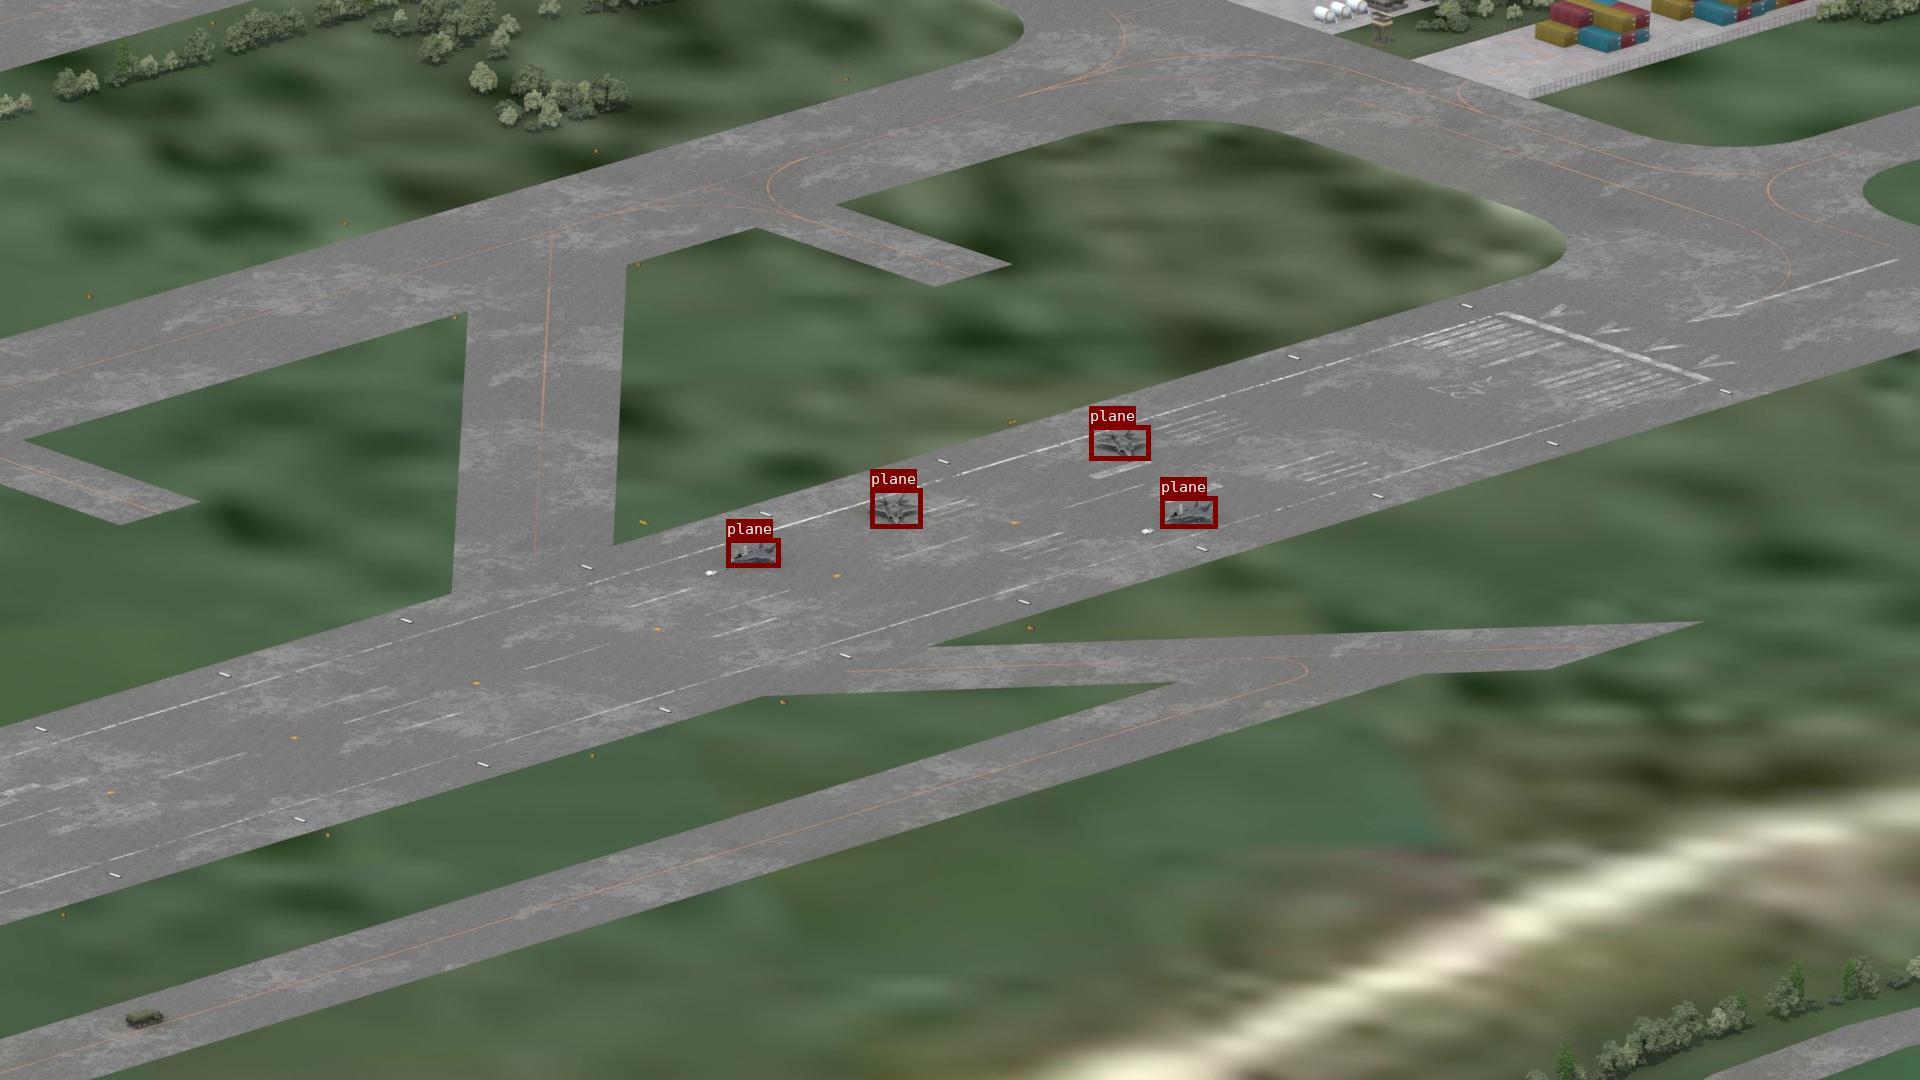plane: (1089, 425, 1150, 460), (870, 488, 922, 527), (1160, 496, 1217, 527), (727, 538, 781, 567)
